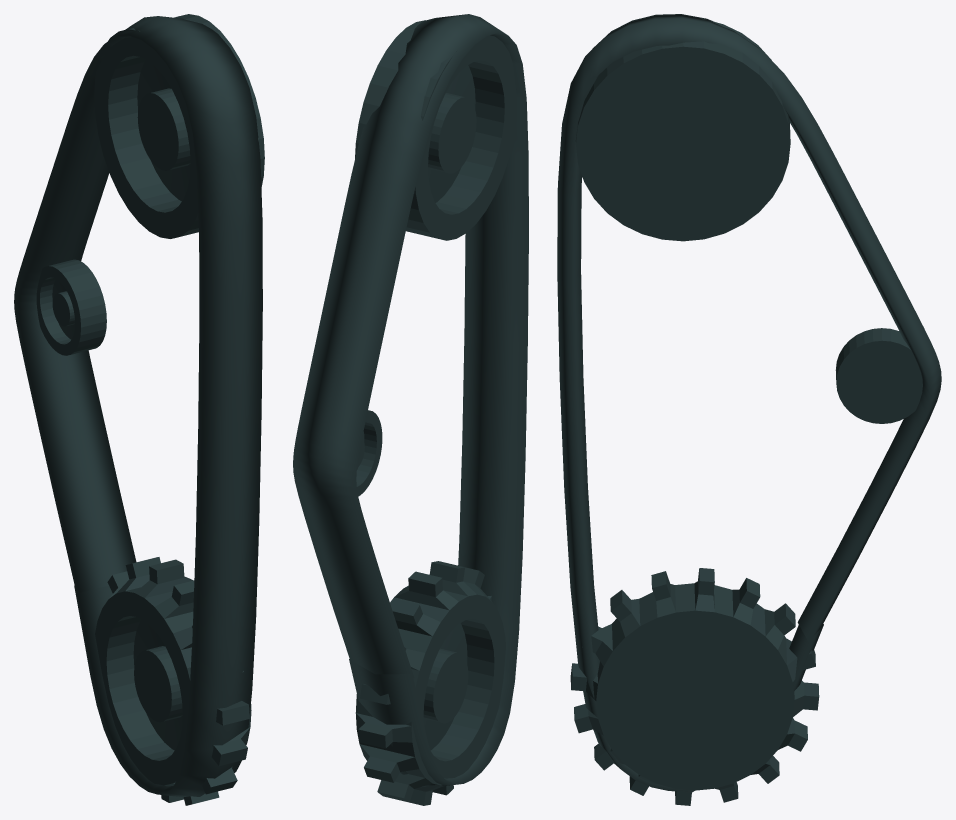
File: sabuk_mesin.obj
3 views of the same model, side by side, from view 1: azimuth 30°, elevation 25°; view 2: azimuth 150°, elevation 25°; view 3: azimuth 270°, elevation 25° (orthographic).
Parts seen in each view (by area): view 1: sabuk_mesin; view 2: sabuk_mesin; view 3: sabuk_mesin.
Part boxes in pixels (x1,y1,x2,y2): sabuk_mesin: [14, 14, 264, 805]; sabuk_mesin: [293, 14, 528, 805]; sabuk_mesin: [557, 14, 941, 805].
Bounding box in the file's own units: 0.1234 × 1.24 × 0.557.
